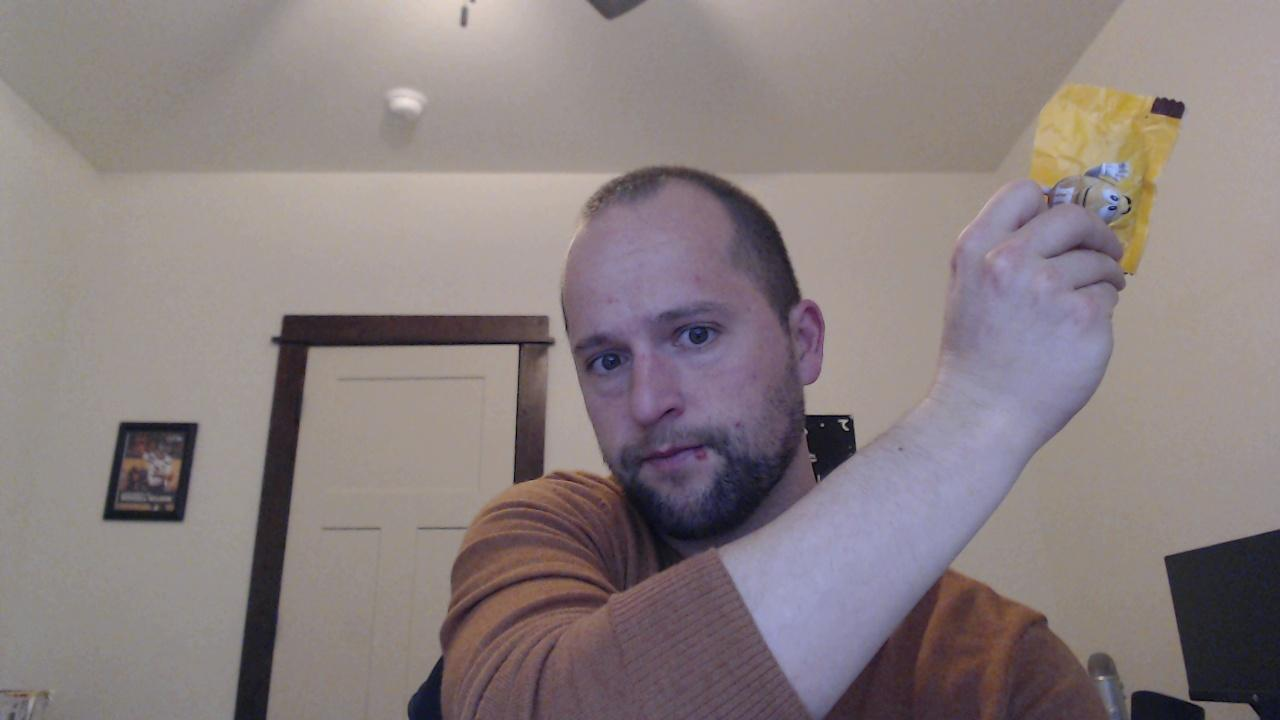MM_yellow: (1027, 81, 1188, 302)
